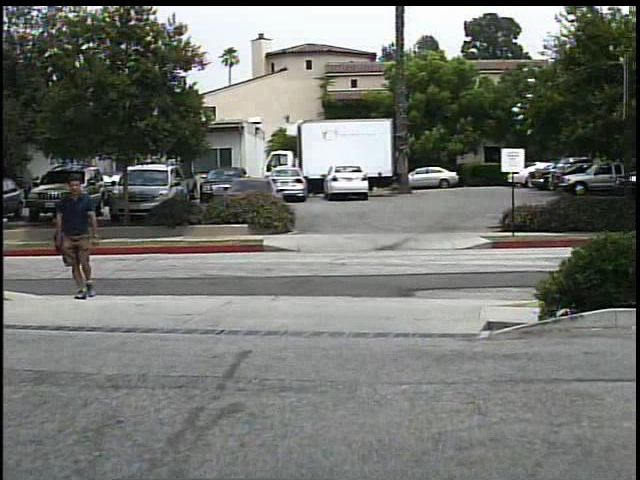person: (54, 176, 106, 302)
